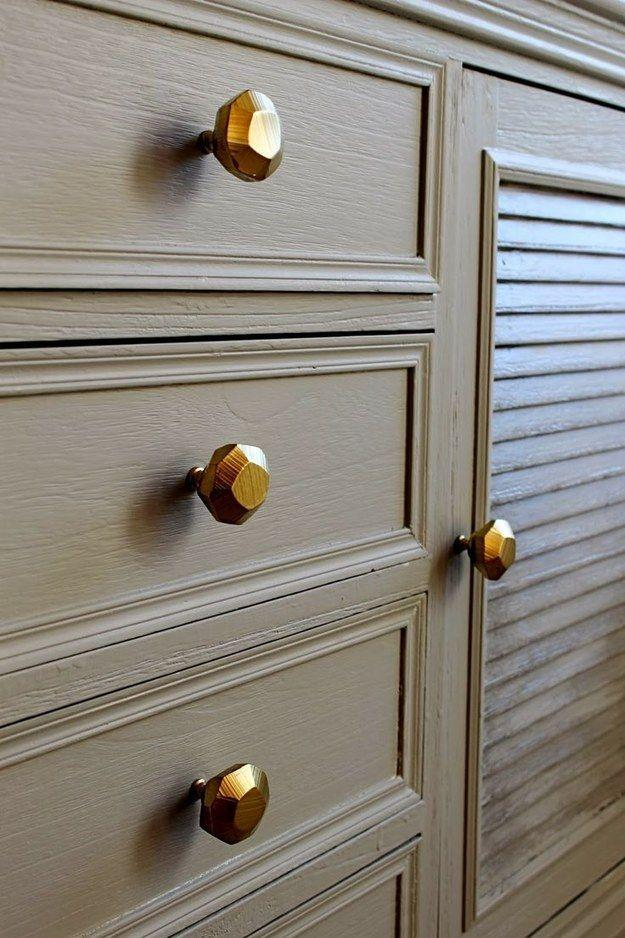cabinet_door: (463, 97, 625, 837), (3, 28, 431, 276), (10, 637, 407, 874), (8, 354, 414, 576)
handle: (188, 62, 292, 221), (190, 427, 274, 544), (192, 753, 274, 862), (460, 489, 523, 604)
